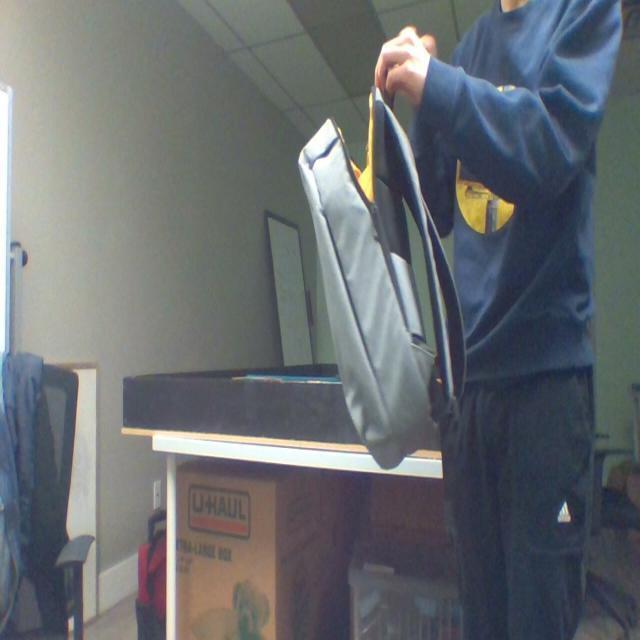Backpacks: (294, 71, 463, 465)
